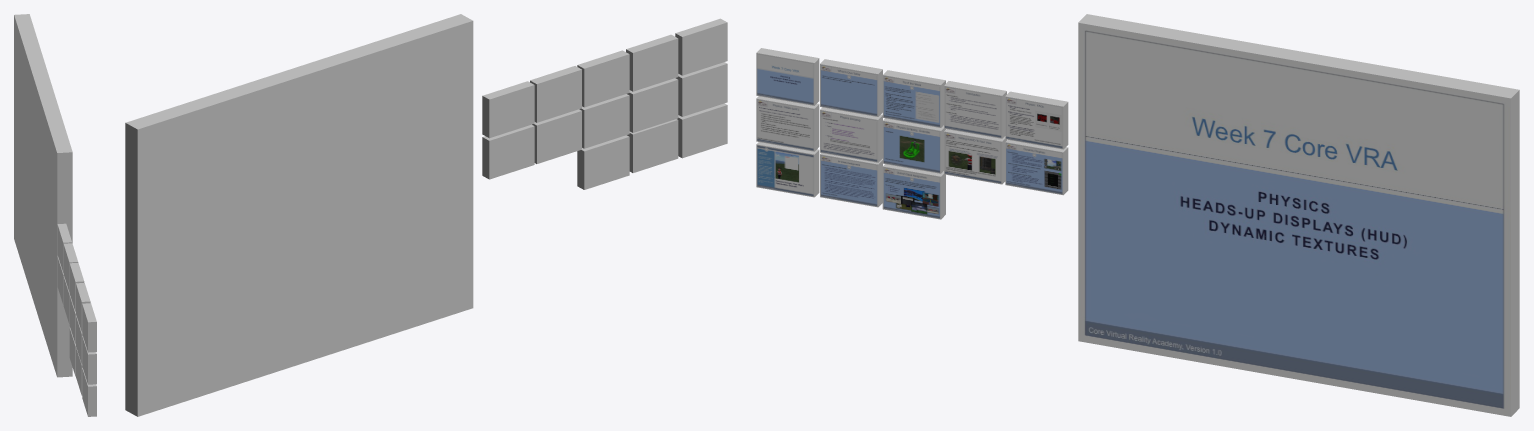
File: VRA_Lecture7_V1_097-138-023__98110d5d-5525-4afc-bc6e-15175ac08116.dae
3 views of the same model, side by side, from view 1: azimuth 30°, elevation 25°; view 2: azimuth 150°, elevation 25°; view 3: azimuth 270°, elevation 25° (orthographic). The views are drawn at different scales.
Parts seen in each view (by area): view 1: VRA_Lecture7_V1, Slideshow (×13); view 2: VRA_Lecture7_V1, Slideshow (×13); view 3: VRA_Lecture7_V1, Slideshow (×13).
Boxes of the visible parts, box(x1,y1,x2,y2) form: VRA_Lecture7_V1: box(14, 14, 72, 377); Slideshow (×13): box(57, 223, 96, 416); VRA_Lecture7_V1: box(125, 14, 473, 416); Slideshow (×13): box(482, 18, 727, 189); VRA_Lecture7_V1: box(1078, 14, 1519, 416); Slideshow (×13): box(756, 48, 1068, 219).
Bounding box in the file's own units: 3.27 × 7.41 × 3.41.
